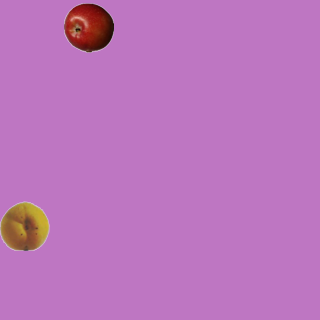Apple Braeburn: (63, 2, 113, 52)
Peach 2: (0, 200, 49, 250)
